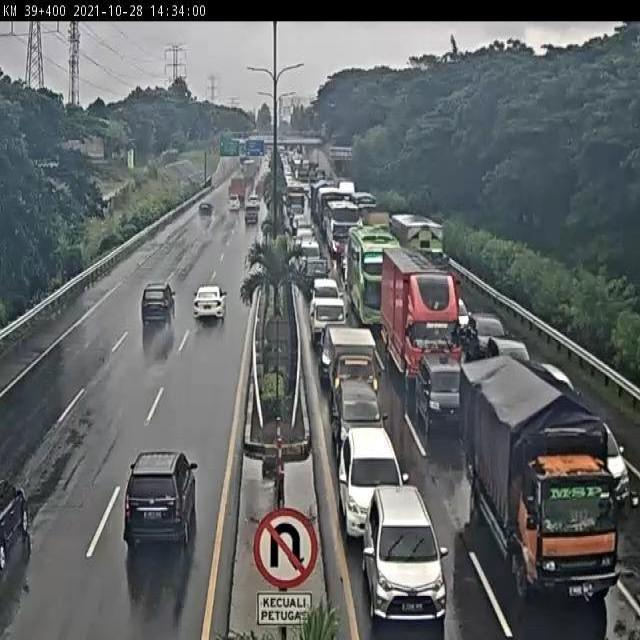bus-l-: (348, 228, 401, 329), (322, 202, 362, 258)
car: (360, 489, 449, 623), (334, 429, 409, 539), (123, 451, 200, 548), (567, 406, 631, 506), (416, 350, 472, 438), (322, 328, 384, 405), (327, 382, 389, 458), (309, 296, 350, 352), (466, 313, 508, 360), (139, 280, 176, 332), (487, 337, 530, 375), (192, 286, 226, 330), (298, 258, 330, 298), (447, 293, 470, 335), (296, 238, 320, 266), (312, 278, 340, 302), (294, 222, 312, 242)
truck-l-: (468, 362, 621, 598), (380, 247, 459, 393)
